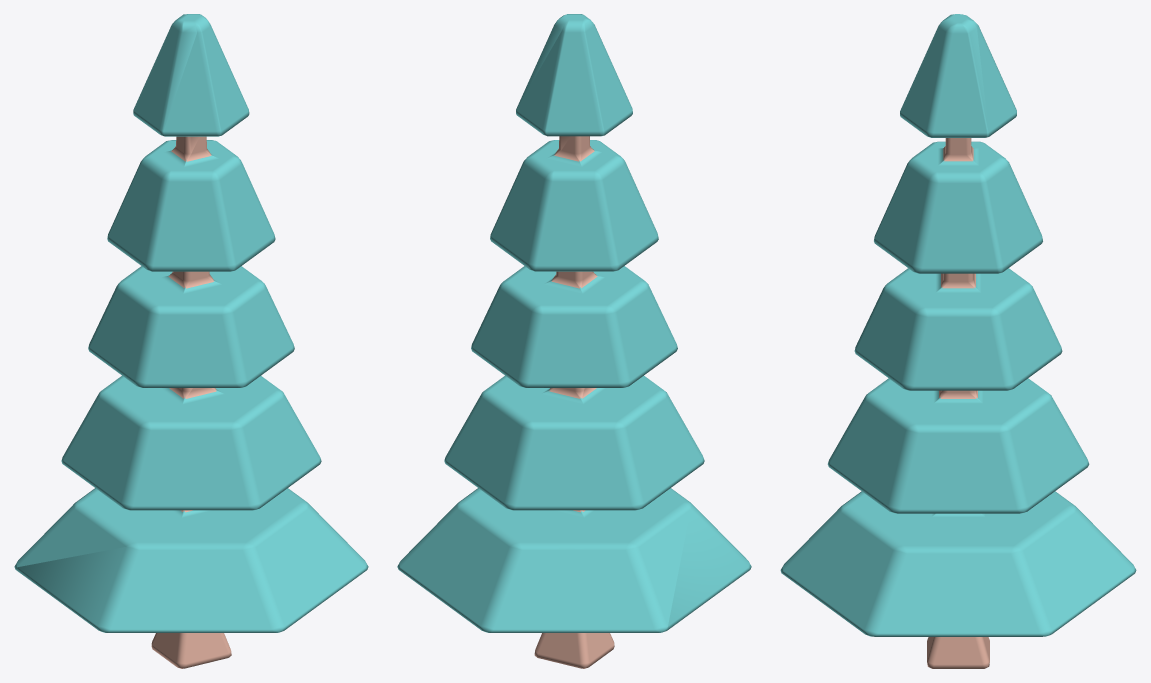
The model's file is tree_pineRoundA.glb.
3 renders of one model, left to right at view 1: azimuth 30°, elevation 25°; view 2: azimuth 150°, elevation 25°; view 3: azimuth 270°, elevation 25°, orthographic.
Visible parts, largest first — view 1: tree_pineRoundA; view 2: tree_pineRoundA; view 3: tree_pineRoundA.
Part boxes in pixels (<box>): tree_pineRoundA: <box>14,14,368,668</box>; tree_pineRoundA: <box>397,14,751,668</box>; tree_pineRoundA: <box>780,14,1136,668</box>.
Bounding box in the file's own units: 0.6036 × 1.37 × 0.6894.
